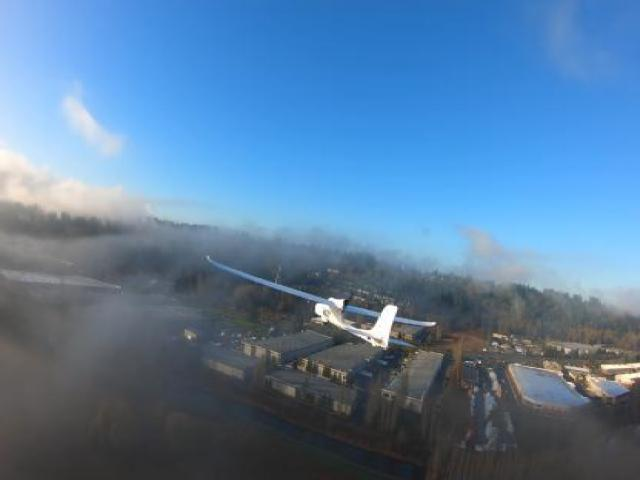uav: (198, 244, 440, 373)
